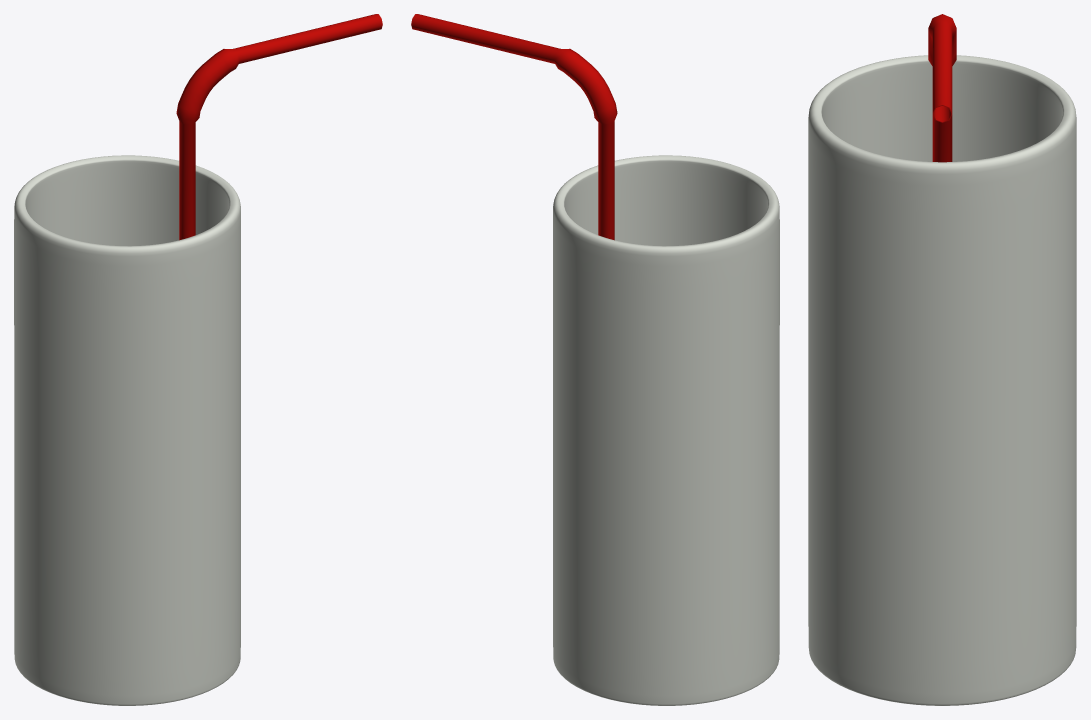
The model's file is limonata_bardag_dolu.fbx.
3 renders of one model, left to right at view 1: azimuth 30°, elevation 25°; view 2: azimuth 150°, elevation 25°; view 3: azimuth 270°, elevation 25°, orthographic. The views are drawn at different scales.
Parts seen in each view (by area): view 1: pipet.002; view 2: pipet.002; view 3: pipet.002.
Boxes of the visible parts, x1,y1,x2,y2 form: pipet.002: (14,14,382,705); pipet.002: (411,14,779,705); pipet.002: (808,14,1076,705).
Bounding box in the file's own units: 89.5 × 143 × 50.4.
